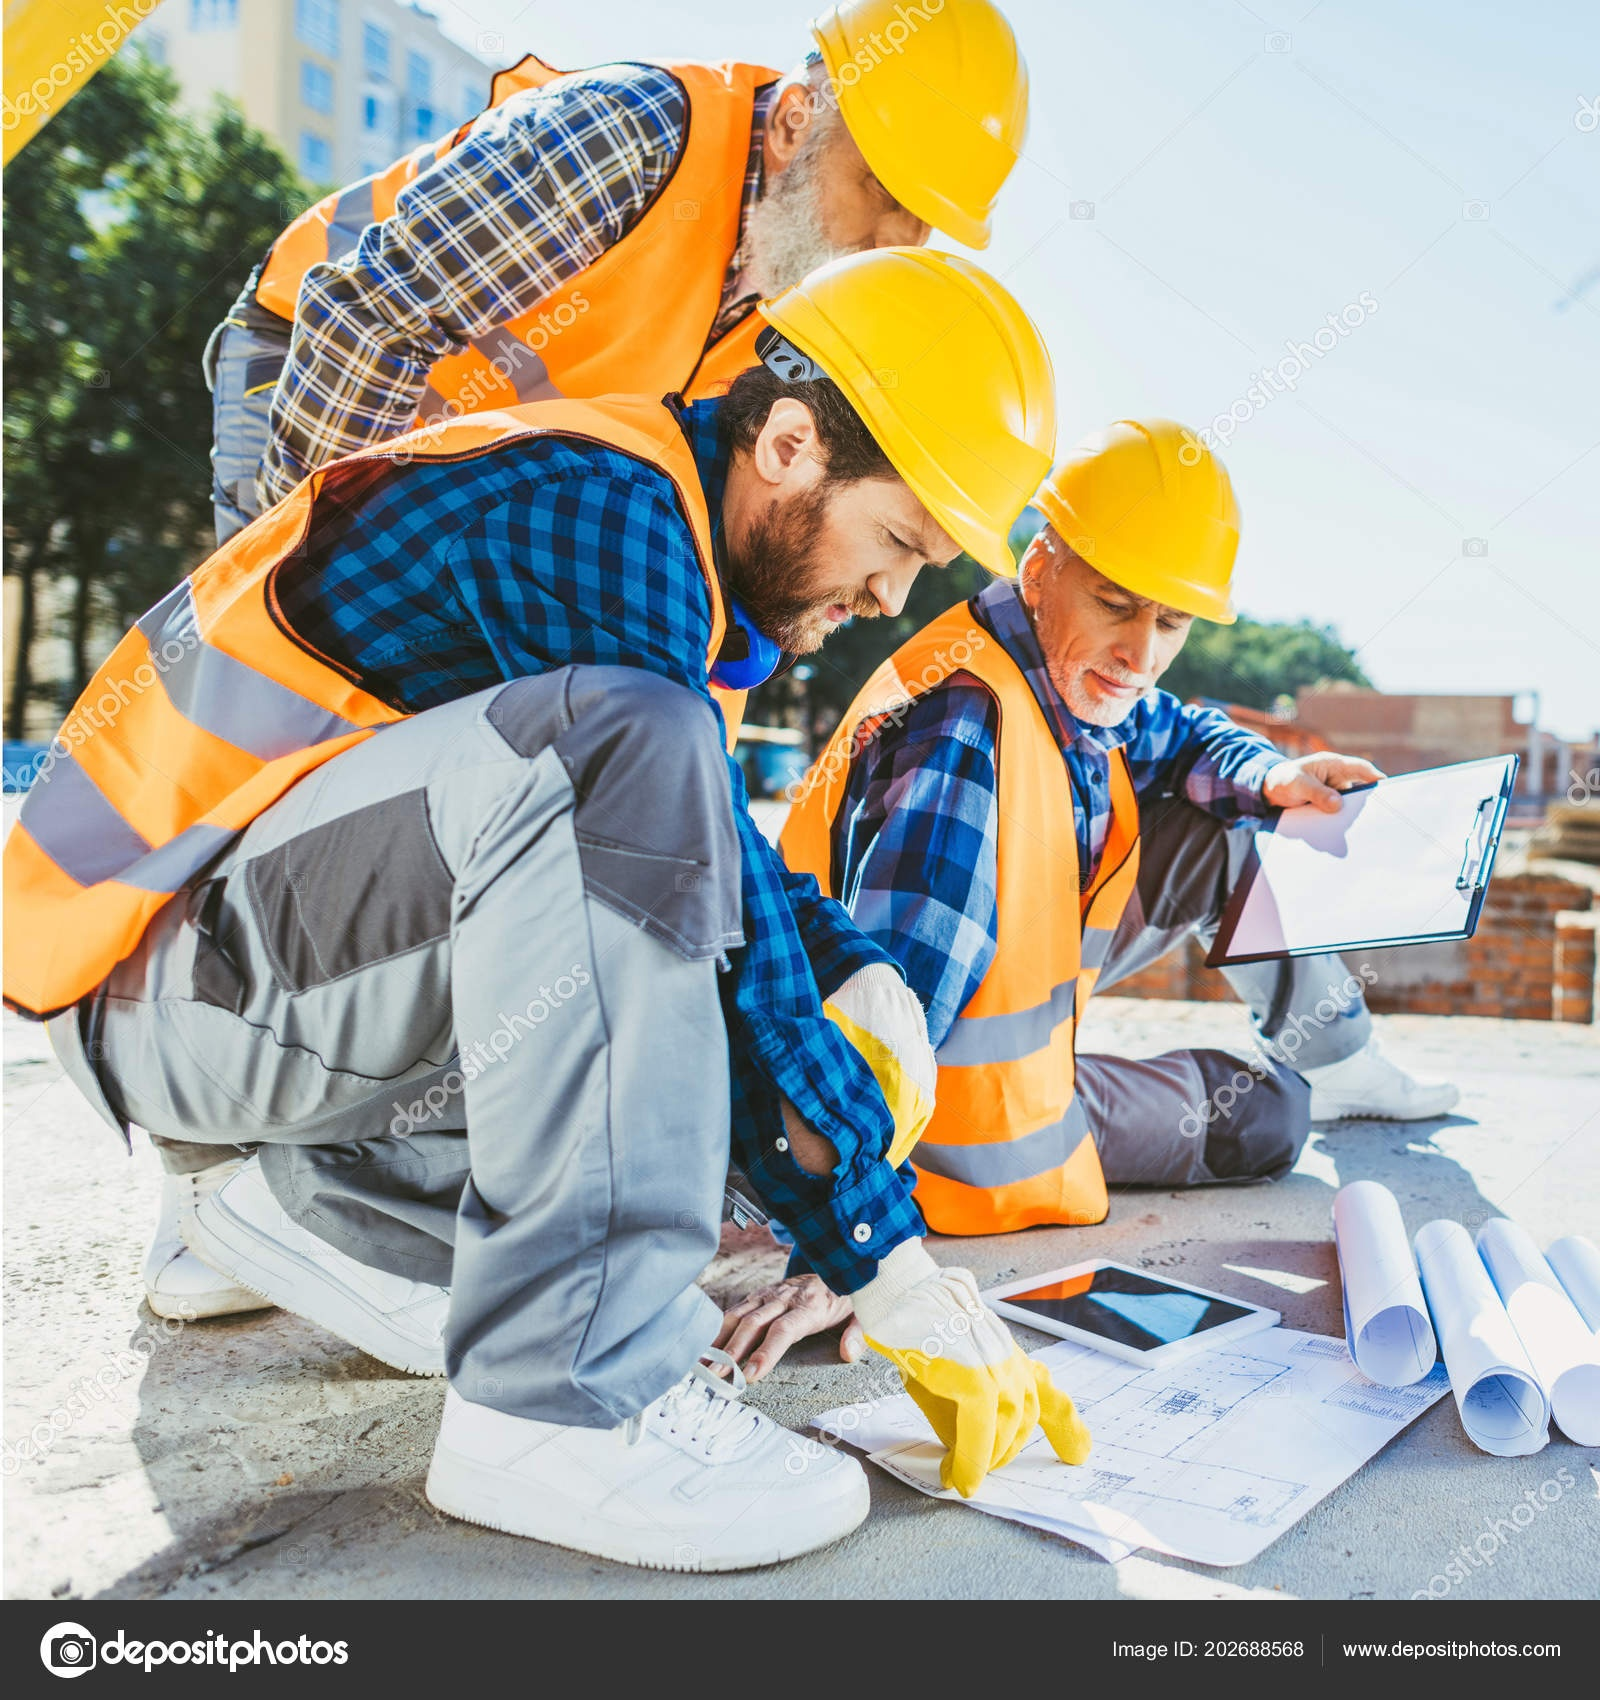yellow: (714, 236, 1065, 648), (762, 2, 1032, 271), (1020, 413, 1245, 734)
